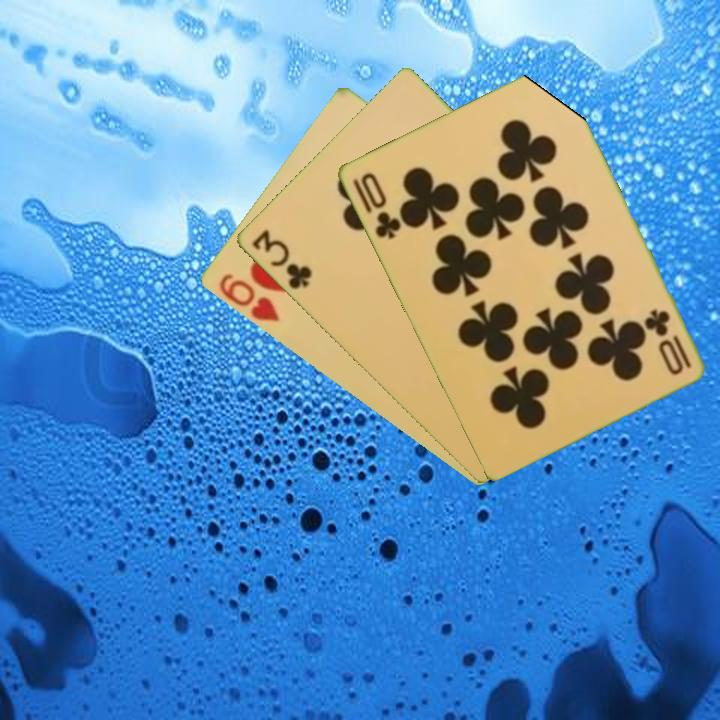10c: (348, 168, 404, 242), (641, 305, 694, 378)
3c: (247, 225, 315, 292)
6h: (214, 269, 282, 325)
